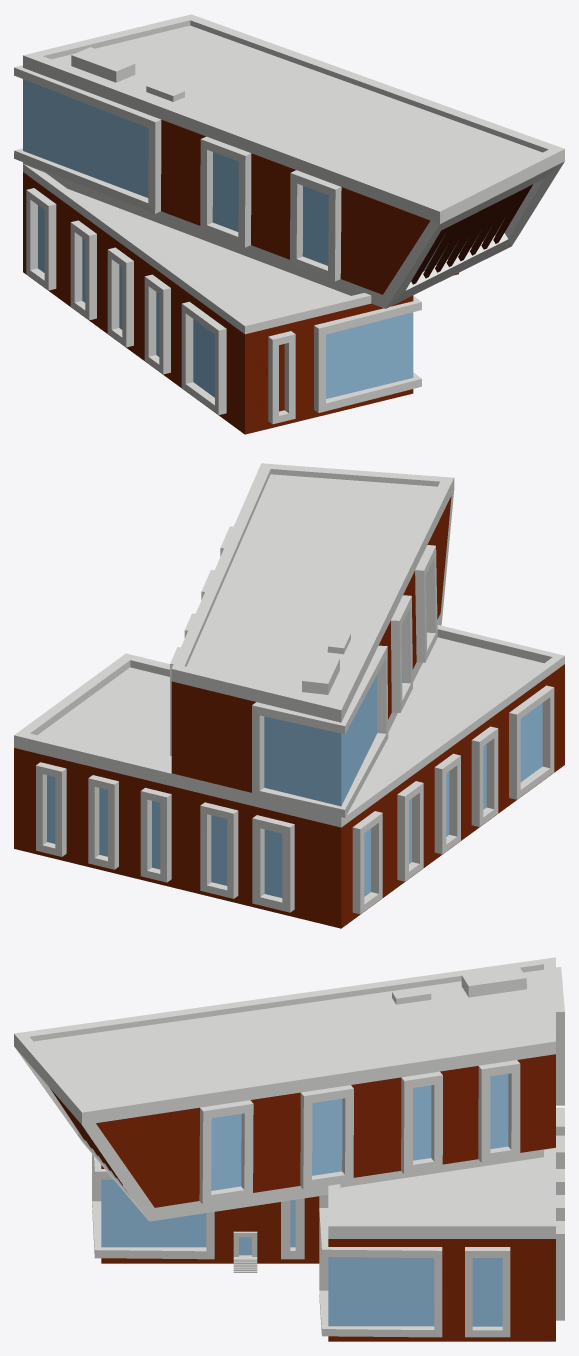
Rendered from library.glb.
The picture shows the model from 3 angles, top to bottom: view 1: azimuth 30°, elevation 25°; view 2: azimuth 150°, elevation 25°; view 3: azimuth 270°, elevation 25°; orthographic projection. The views are drawn at different scales.
Visible parts, largest first — view 1: Library_large; view 2: Library_large; view 3: Library_large.
Boxes of the visible parts, x1,y1,x2,y2 form: Library_large: (14,14,564,434); Library_large: (14,463,564,928); Library_large: (14,957,564,1341).
Size of the model in its own units: 2.62 by 1.64 by 3.59.
Materials: 1 (1 with a texture image).
